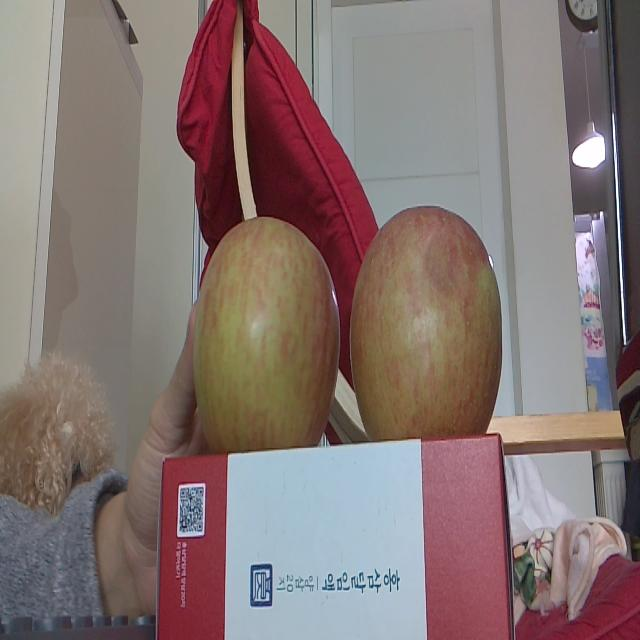apple: (350, 206, 502, 436), (192, 216, 338, 447)
